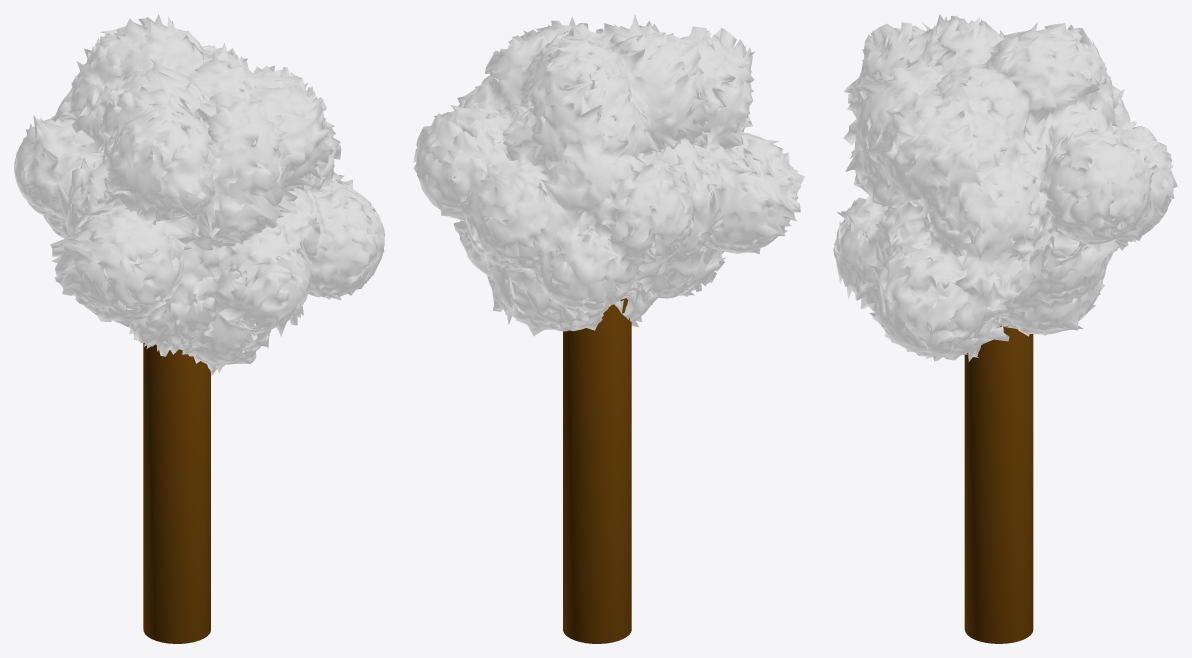
The model's file is Tree-Nodes,bigvert.glb.
The picture shows the model from 3 angles, left to right: view 1: azimuth 30°, elevation 25°; view 2: azimuth 150°, elevation 25°; view 3: azimuth 270°, elevation 25°; orthographic projection.
Parts seen in each view (by area): view 1: Sphere, Cylinder; view 2: Sphere, Cylinder; view 3: Sphere, Cylinder.
Part boxes in pixels (x1,y1,x2,y2): Sphere: (14, 14, 384, 375); Cylinder: (143, 343, 210, 643); Sphere: (413, 14, 804, 336); Cylinder: (563, 298, 631, 643); Sphere: (833, 14, 1177, 361); Cylinder: (964, 325, 1033, 643).
Bounding box in the file's own units: 3.12 × 5.41 × 2.8.
